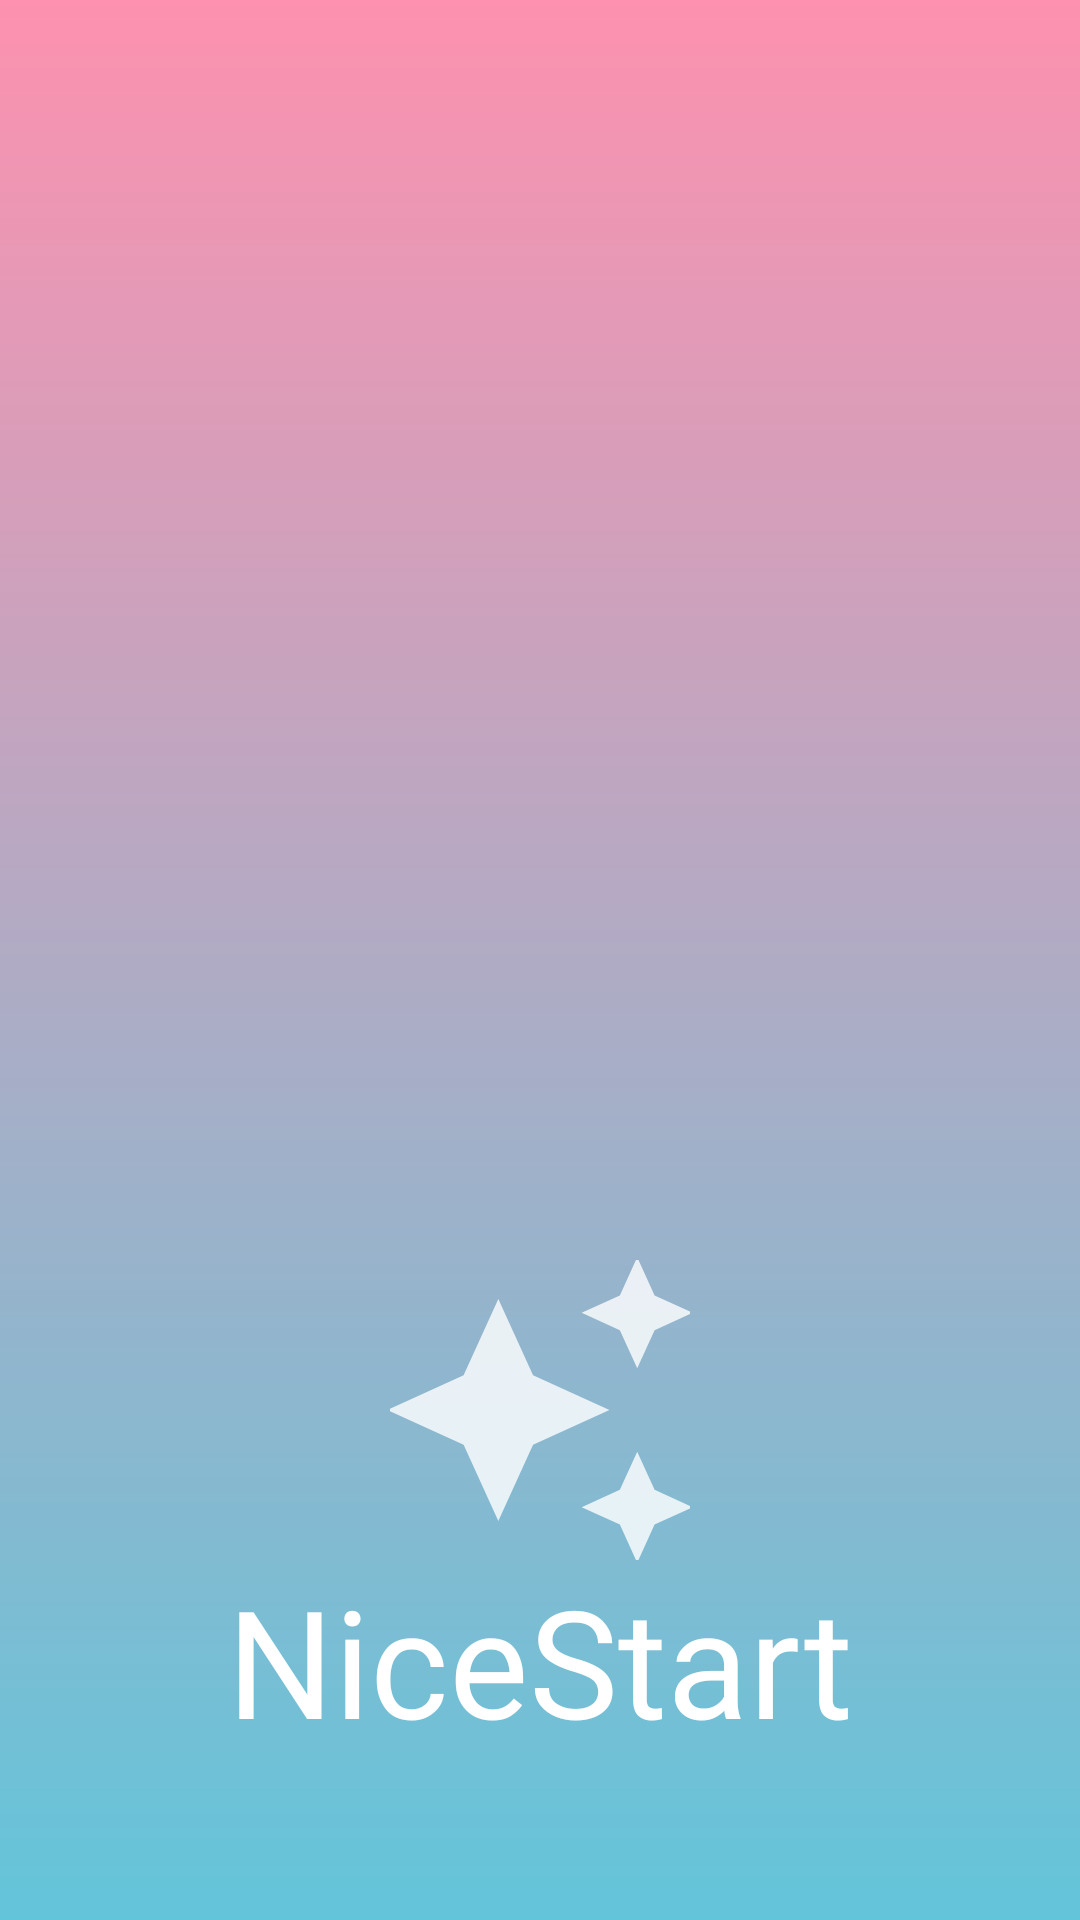

Locate icon controls on the screen. Image size 1080px×1920px, boxes as (x1, y1, x2, y2).
estrellas: (390, 1260, 690, 1560)
